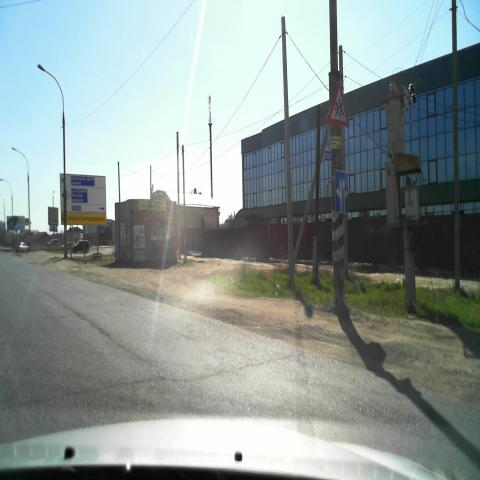5_15_2_2: (333, 166, 351, 214)
